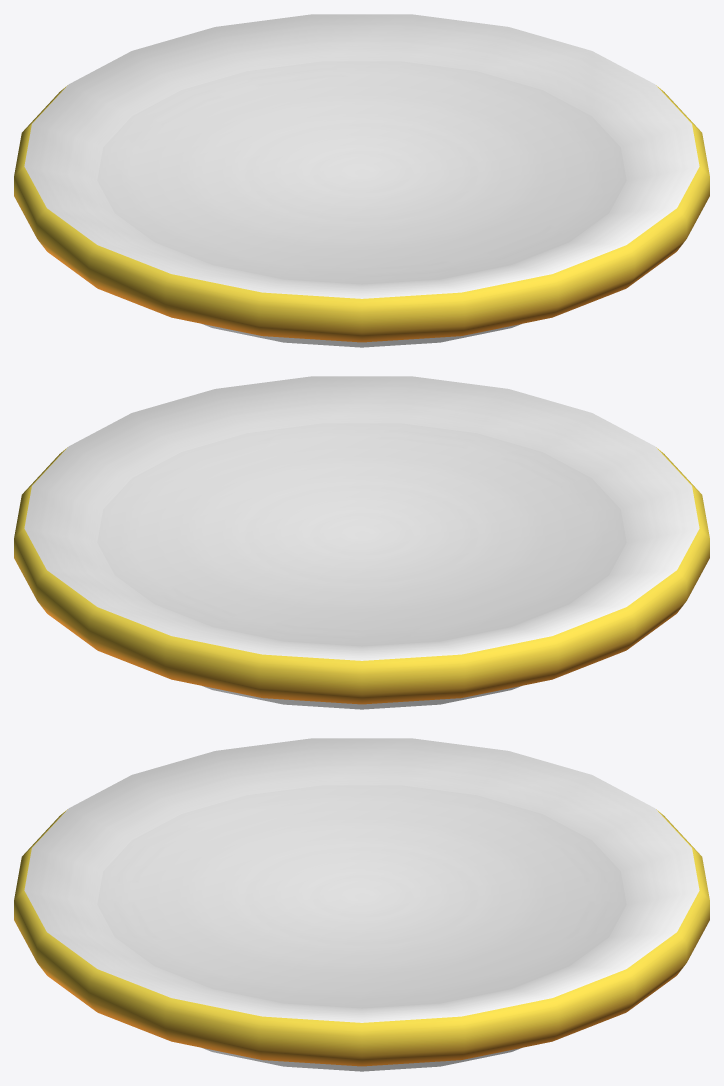
Rendered from Tabak.fbx.
3 views of the same model, one above another, from view 1: azimuth 30°, elevation 25°; view 2: azimuth 150°, elevation 25°; view 3: azimuth 270°, elevation 25° (orthographic).
Visible parts, largest first — view 1: Tabak01; view 2: Tabak01; view 3: Tabak01.
Boxes of the visible parts, <box> form: Tabak01: <box>14,14,709,347</box>; Tabak01: <box>14,376,709,709</box>; Tabak01: <box>14,738,709,1071</box>.
Size of the model in its own units: 343 by 43.39 by 344.
